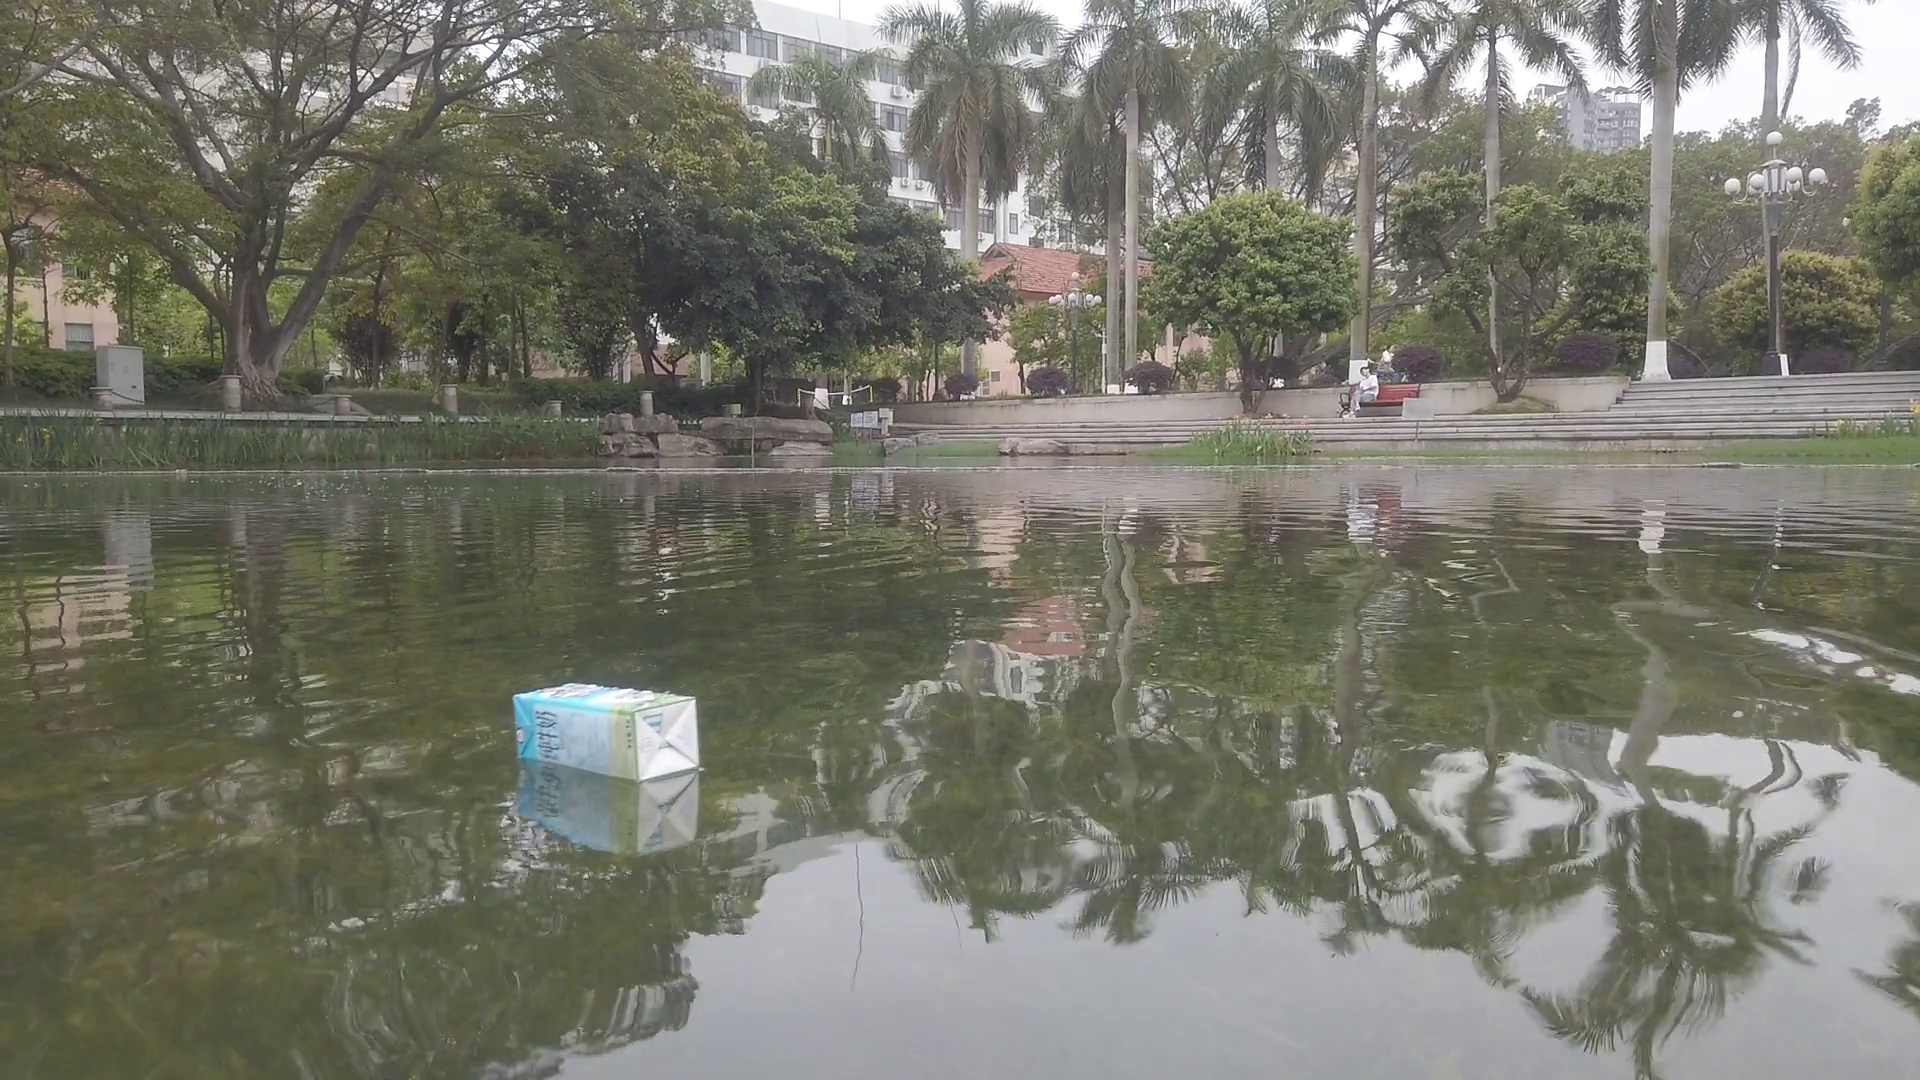carton: (512, 684, 698, 775)
